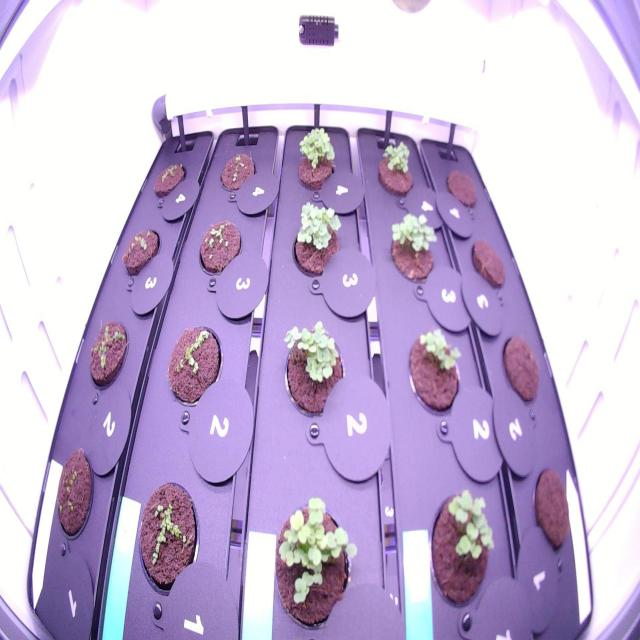germination: (263, 481, 371, 636), (415, 461, 499, 627), (276, 308, 354, 434), (134, 473, 208, 605), (398, 322, 469, 430), (161, 312, 227, 420), (284, 191, 349, 296), (45, 436, 100, 552), (382, 201, 442, 295), (81, 307, 134, 403), (287, 118, 343, 205), (194, 206, 246, 289), (114, 218, 168, 290), (369, 132, 418, 204), (212, 138, 260, 198), (144, 150, 192, 208)
pod: (526, 454, 576, 556), (496, 326, 546, 413), (464, 227, 511, 301), (440, 157, 486, 220)
